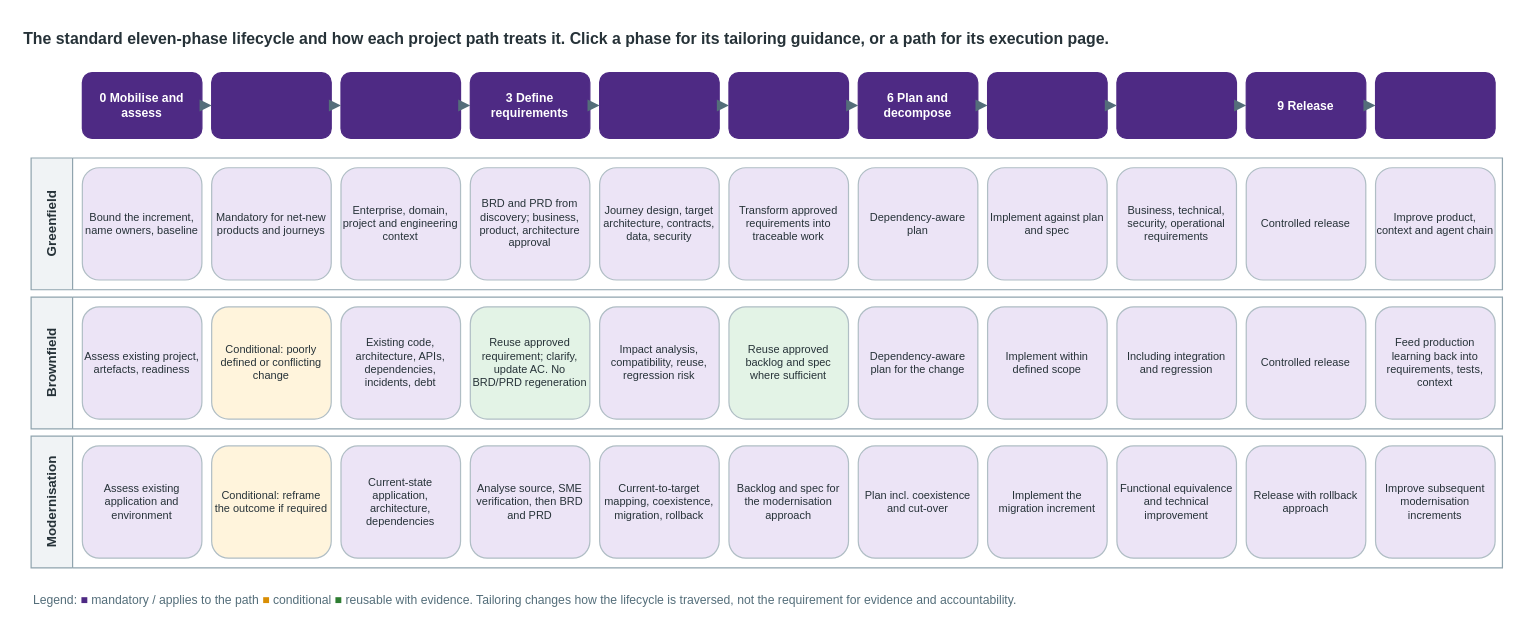
Image size: 1524x630. Some labels were removed from this diagram. Here are the shapes that lost their labels. From the top down, the centre of each, then its label:
At (270,104): "1 Discover and frame".
At (400,104): "2 Contextualise".
At (658,104): "4 Design experience and architecture".
At (788,104): "5 Create backlog and specification".
At (1046,104): "7 Build".
At (1176,104): "8 Validate".
At (1434,104): "10 Operate and improve".
